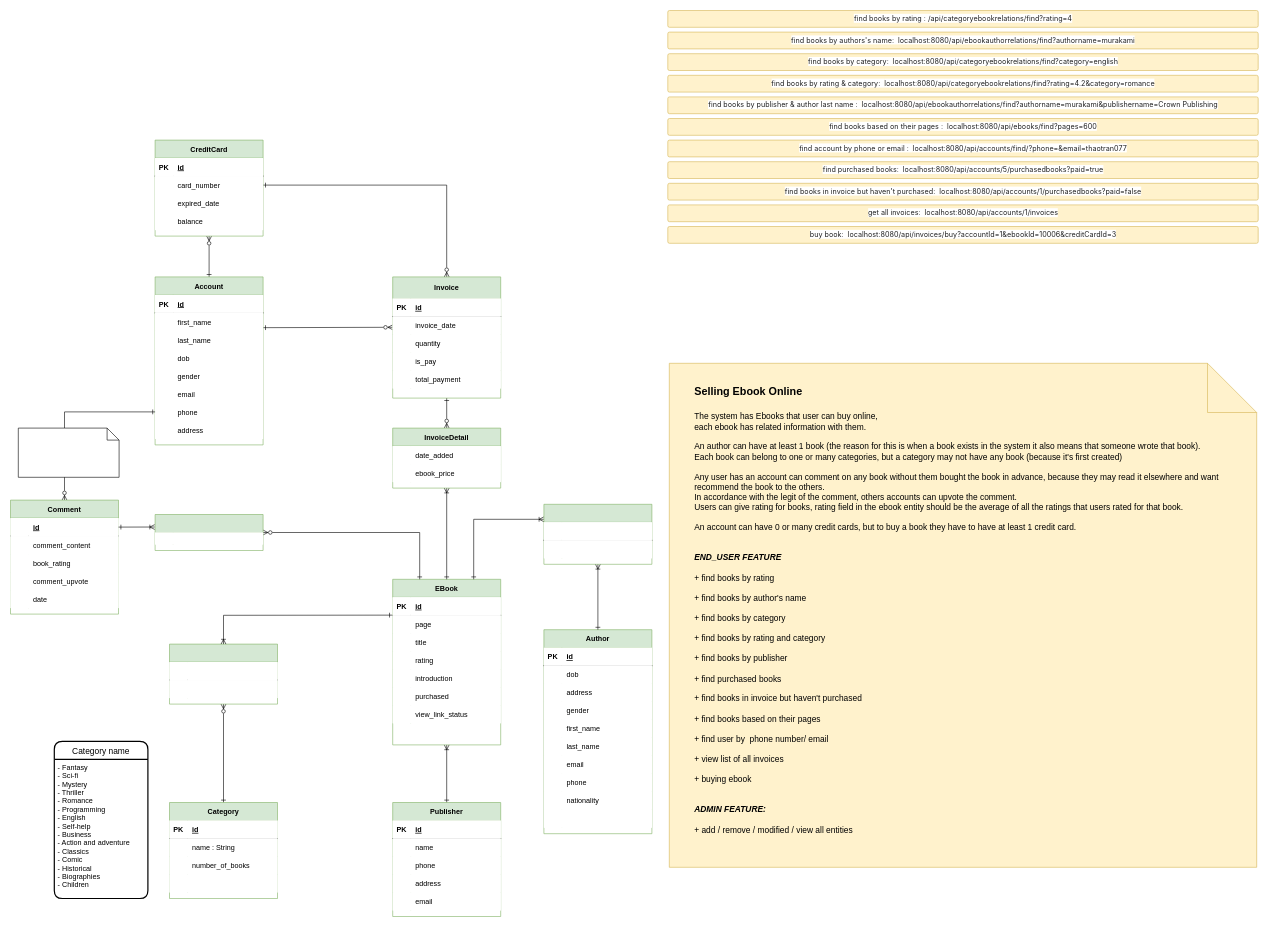
Image size: 1269x927. Some labels were removed from this diagram. The shapes that lost their labels are listed below. From the top down, each one's centre as x and y in pixels, then its label:
[68,452]: An account can comment on any book without them purchased that book
[208,532]: CommentEbookRelation
[597,534]: EbookAuthorRelation
[223,674]: CategoryEbookRelation
